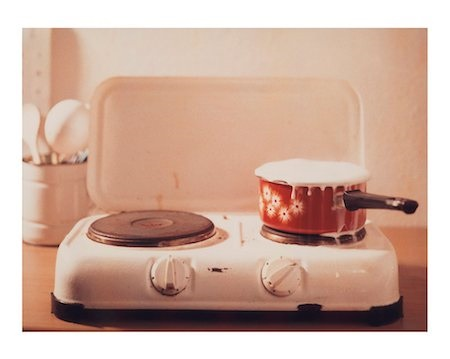Boiled: (253, 157, 375, 239)
